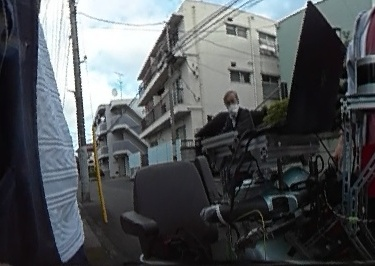person: (218, 89, 250, 143)
